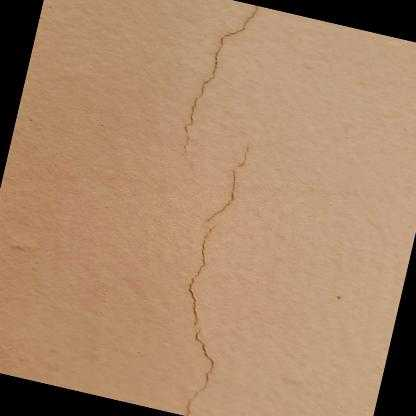crack: (177, 146, 248, 416), (180, 4, 260, 152)
